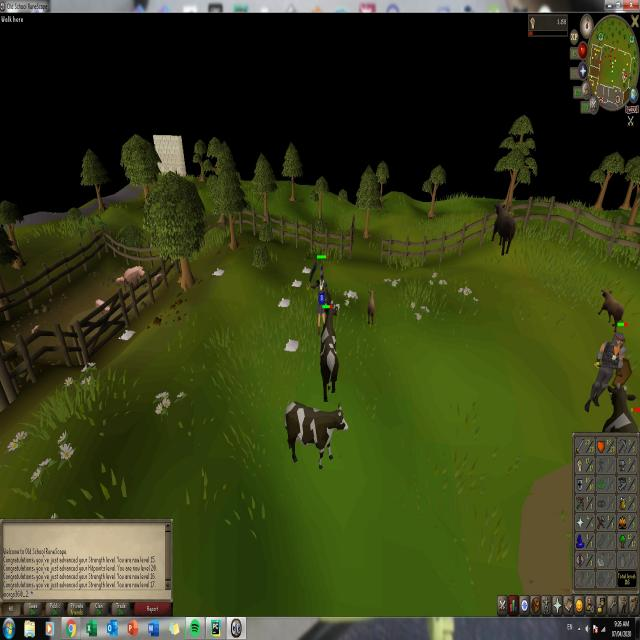cow: (284, 397, 348, 468), (318, 302, 339, 401), (600, 378, 638, 430), (596, 287, 626, 333), (492, 201, 516, 257), (366, 286, 375, 325)
player: (314, 264, 327, 322)
